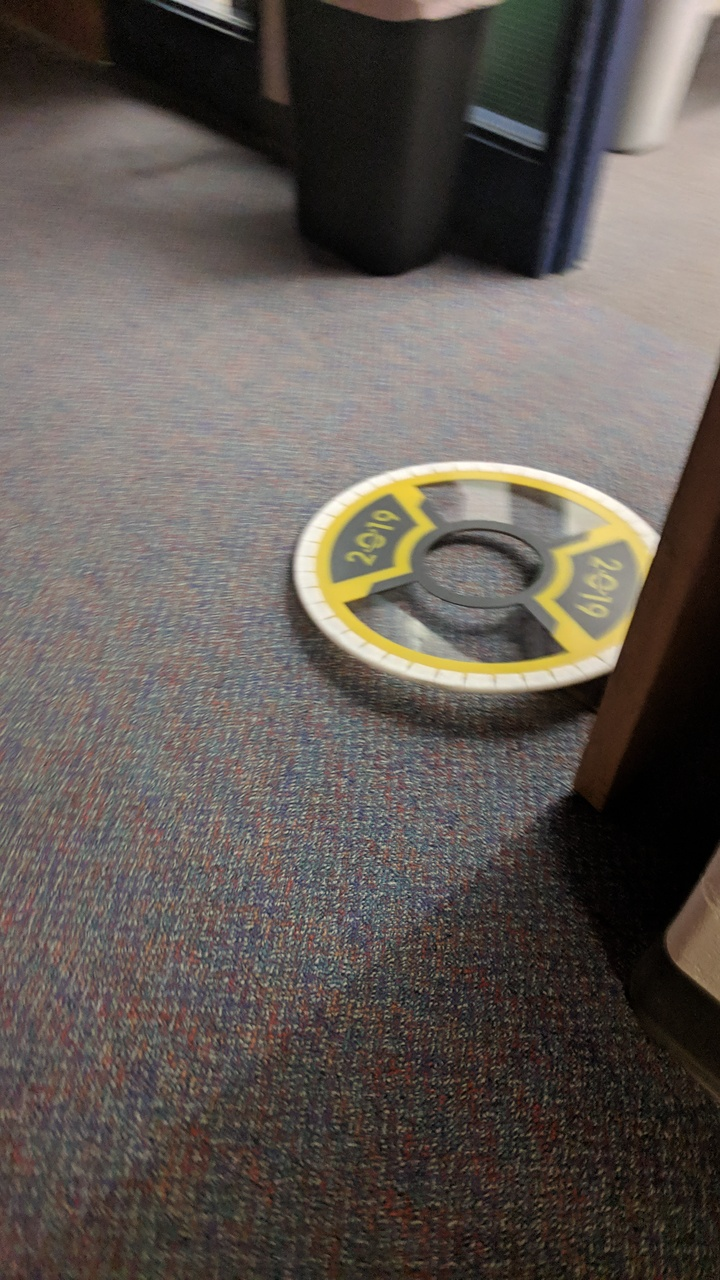hatch_panel: (286, 457, 702, 710)
